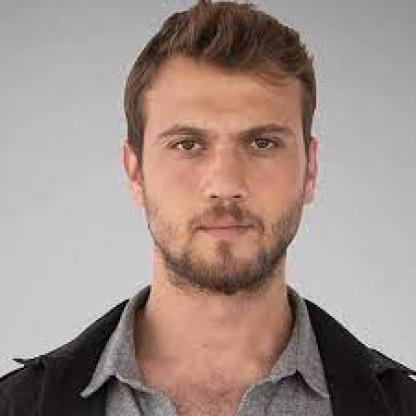person: (114, 0, 322, 293)
